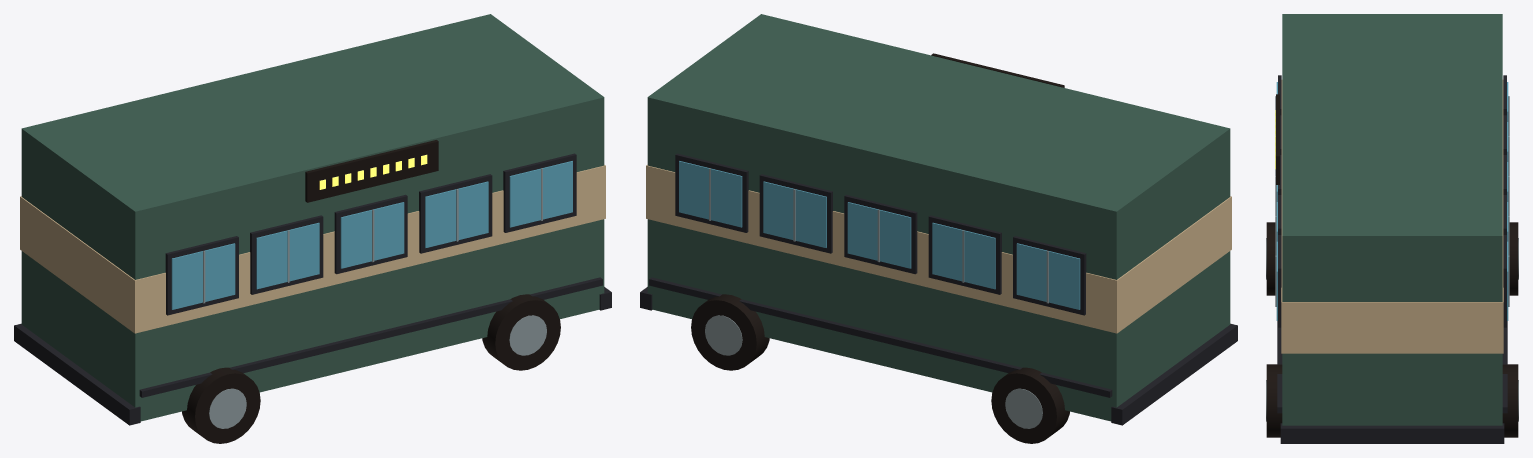
File: mia-bus.glb
The picture shows the model from 3 angles, left to right: view 1: azimuth 30°, elevation 25°; view 2: azimuth 150°, elevation 25°; view 3: azimuth 270°, elevation 25°; orthographic projection. The views are drawn at different scales.
Visible parts, largest first — view 1: Body_sage, Body_glass, Body_ivory, Body_iron, Body_black, Body_steel, Body_amber; view 2: Body_sage, Body_glass, Body_ivory, Body_iron, Body_black, Body_steel; view 3: Body_sage, Body_ivory, Body_iron, Body_black, Body_steel, Body_glass.
Boxes of the visible parts, x1,y1,x2,y2 form: Body_sage: [21, 14, 604, 421]; Body_glass: [171, 161, 572, 309]; Body_ivory: [20, 165, 605, 333]; Body_iron: [14, 153, 611, 425]; Body_black: [182, 140, 560, 443]; Body_steel: [203, 168, 546, 428]; Body_amber: [319, 154, 427, 189]; Body_sage: [647, 14, 1230, 421]; Body_glass: [679, 161, 1080, 309]; Body_ivory: [646, 165, 1231, 333]; Body_iron: [640, 153, 1237, 425]; Body_black: [691, 53, 1069, 443]; Body_steel: [705, 168, 1048, 428]; Body_sage: [1282, 14, 1502, 425]; Body_ivory: [1281, 80, 1503, 353]; Body_iron: [1277, 75, 1507, 443]; Body_black: [1266, 94, 1518, 437]; Body_steel: [1266, 96, 1518, 421]; Body_glass: [1276, 82, 1508, 320].
Bounding box in the file's own units: 5.14 × 2.51 × 2.41.
